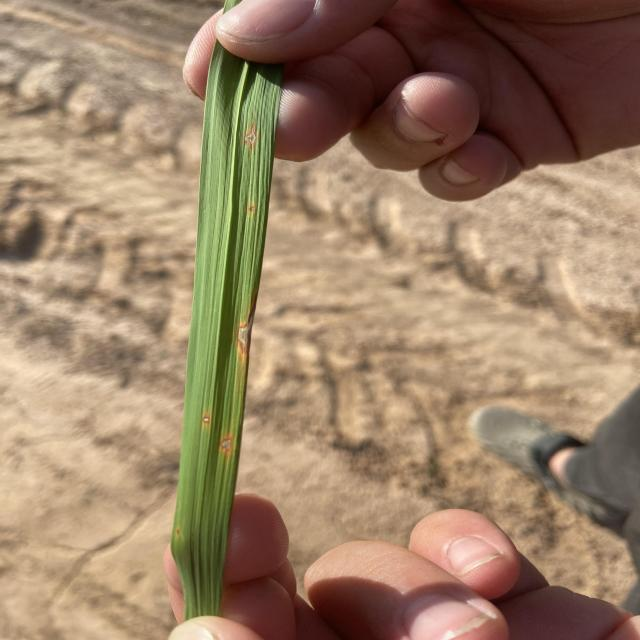Dao on: (235, 290, 258, 360), (220, 434, 234, 456), (245, 125, 256, 147), (203, 414, 211, 425), (248, 203, 255, 214), (176, 527, 181, 537)
